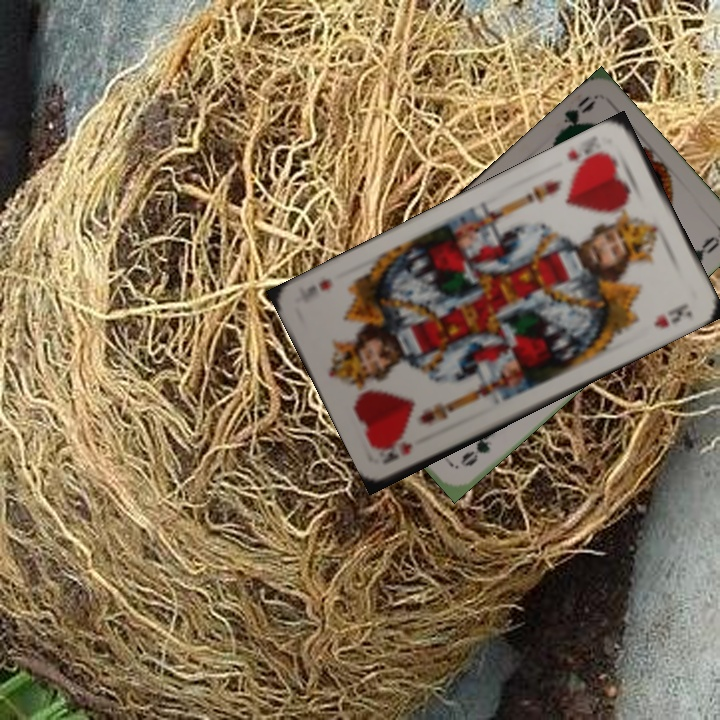GO: (551, 96, 598, 141), (456, 424, 500, 470)
HK: (563, 142, 611, 172), (380, 438, 415, 467)
